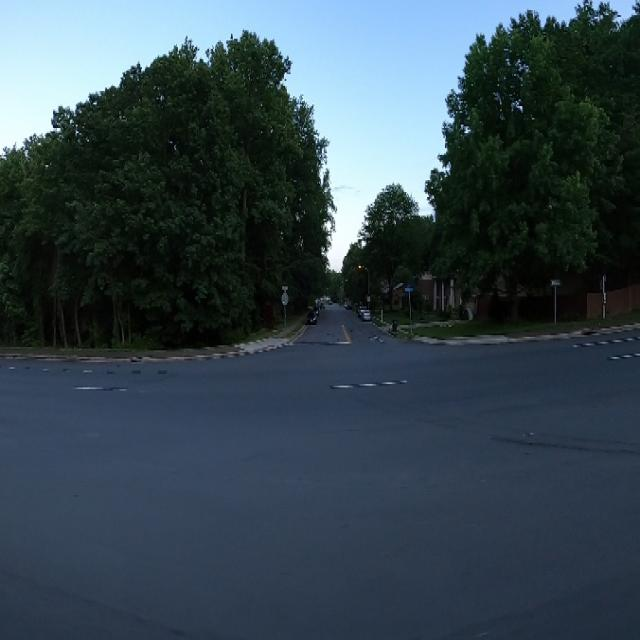cars: (306, 308, 316, 328), (360, 307, 372, 323)
